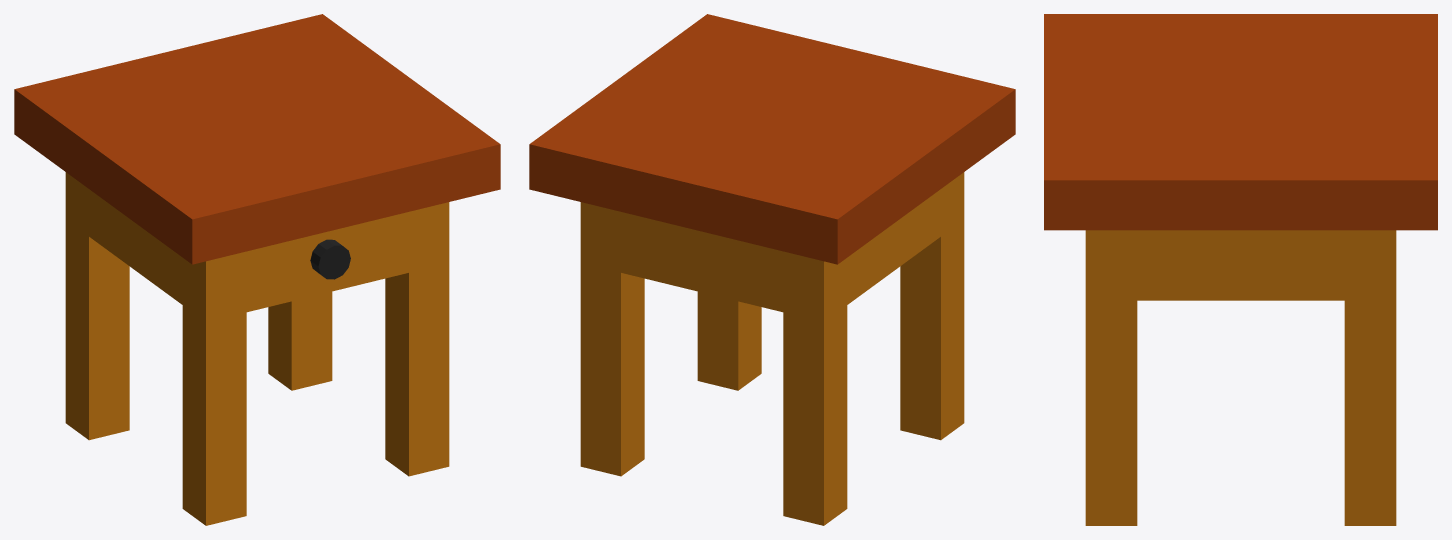
The model's file is Small_table.fbx.
3 views of the same model, side by side, from view 1: azimuth 30°, elevation 25°; view 2: azimuth 150°, elevation 25°; view 3: azimuth 270°, elevation 25° (orthographic). The views are drawn at different scales.
Parts seen in each view (by area): view 1: Cube_8, Cylinder; view 2: Cube_8; view 3: Cube_8.
Part boxes in pixels (bbox=[...]): Cube_8: bbox=[14, 14, 500, 525]; Cylinder: bbox=[310, 239, 350, 279]; Cube_8: bbox=[529, 14, 1015, 525]; Cube_8: bbox=[1044, 14, 1437, 525].
Bounding box in the file's own units: 190 × 193 × 190.
